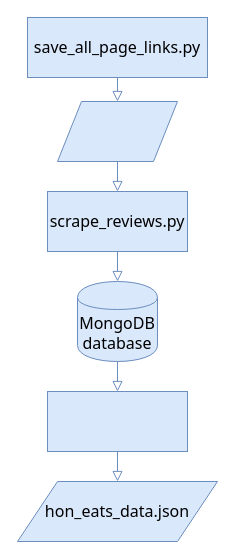
The diagram is 235 pixels wide and 559 high, and some of its shapes have lost their labels. Here are the shapes that lost their labels. From the top down, the centre of each, then its label:
the point at 117,131: all_links.csv
the point at 117,421: save_dataframe.py
